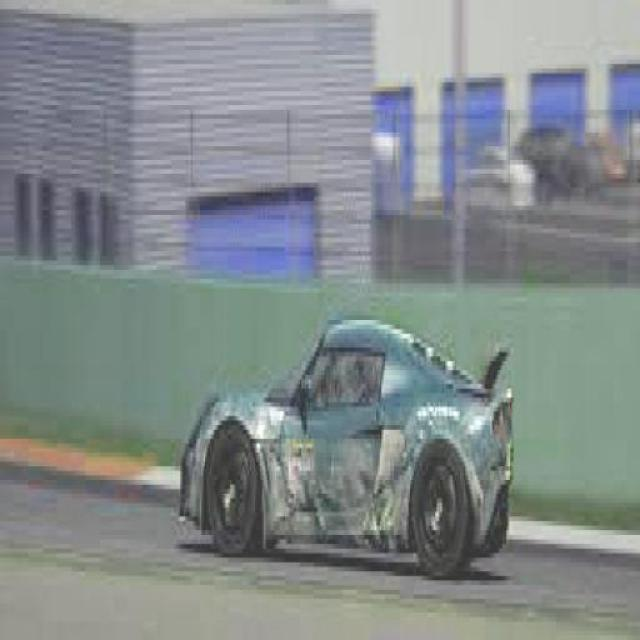car damage: (183, 399, 505, 560)
